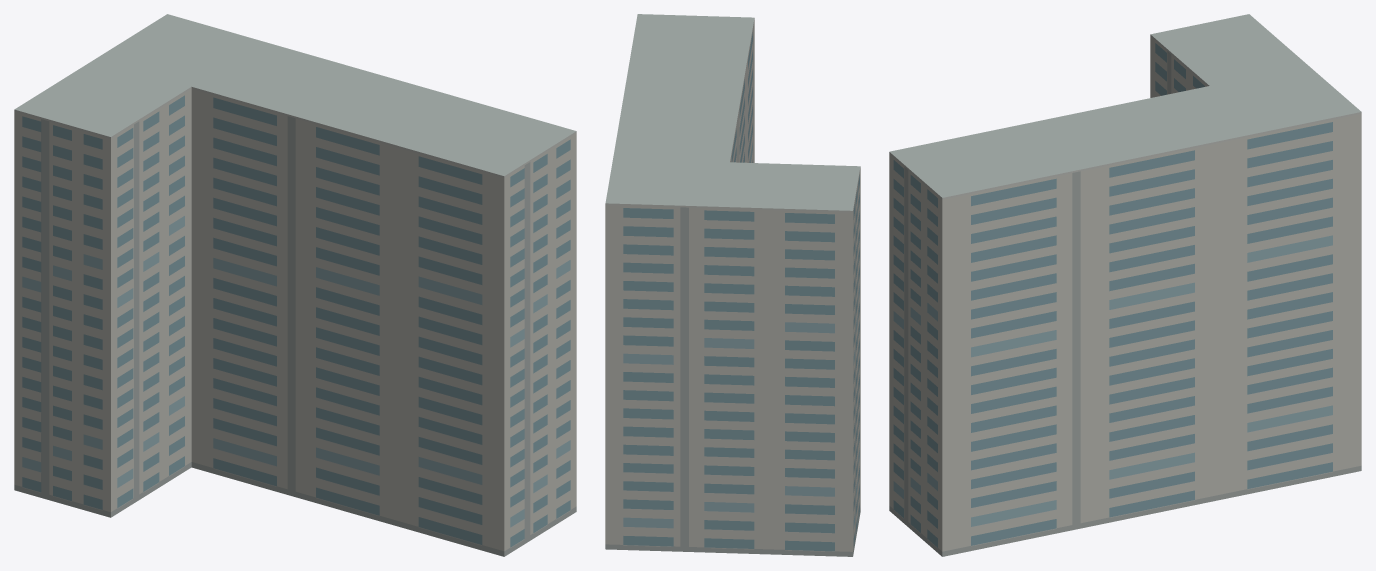
The model's file is residential-eab361b1-47cb-4497-b0d8-25c2116ac6b0.glb.
The picture shows the model from 3 angles, left to right: view 1: azimuth 30°, elevation 25°; view 2: azimuth 150°, elevation 25°; view 3: azimuth 270°, elevation 25°; orthographic projection. The views are drawn at different scales.
Visible parts, largest first — view 1: residential-eab361b1-47cb-4497-b0d8-25c2116ac6b0.tmp; view 2: residential-eab361b1-47cb-4497-b0d8-25c2116ac6b0.tmp; view 3: residential-eab361b1-47cb-4497-b0d8-25c2116ac6b0.tmp.
Boxes of the visible parts, box(x1,y1,x2,y2) form: residential-eab361b1-47cb-4497-b0d8-25c2116ac6b0.tmp: box(14, 14, 576, 556); residential-eab361b1-47cb-4497-b0d8-25c2116ac6b0.tmp: box(605, 14, 860, 556); residential-eab361b1-47cb-4497-b0d8-25c2116ac6b0.tmp: box(889, 14, 1361, 556).
Bounding box in the file's own units: 56.04 × 51 × 60.82.
